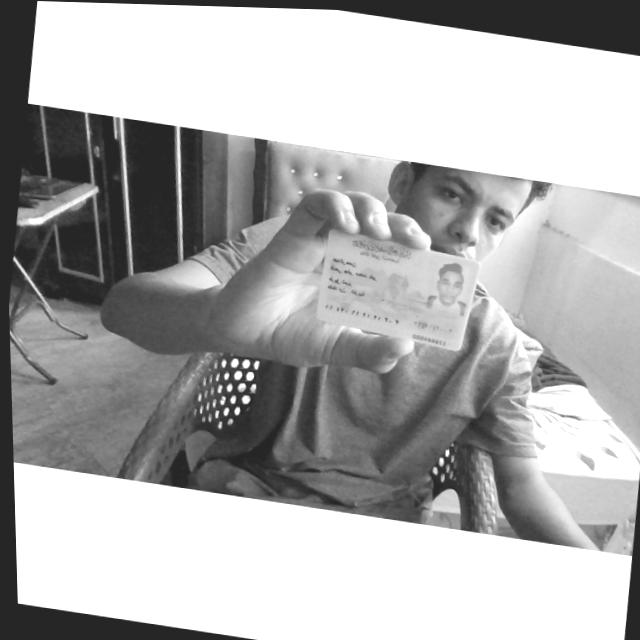id_card: (317, 230, 479, 350)
